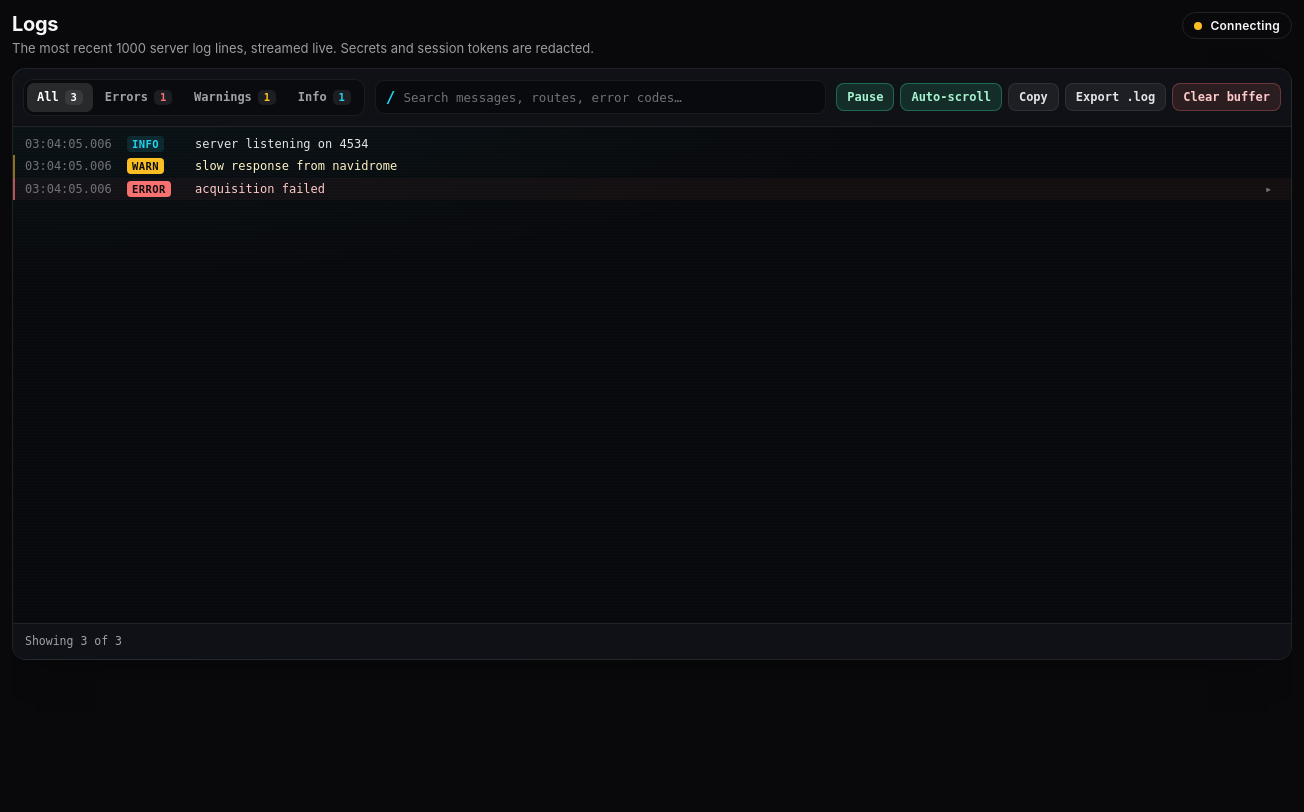
clear asks for confirmation and empties the console
expect the text "server listening on 4534" is shown: met, box [195,136,368,150]
Click the button "Clear buffer": (1227, 97) [1172,83,1281,111]
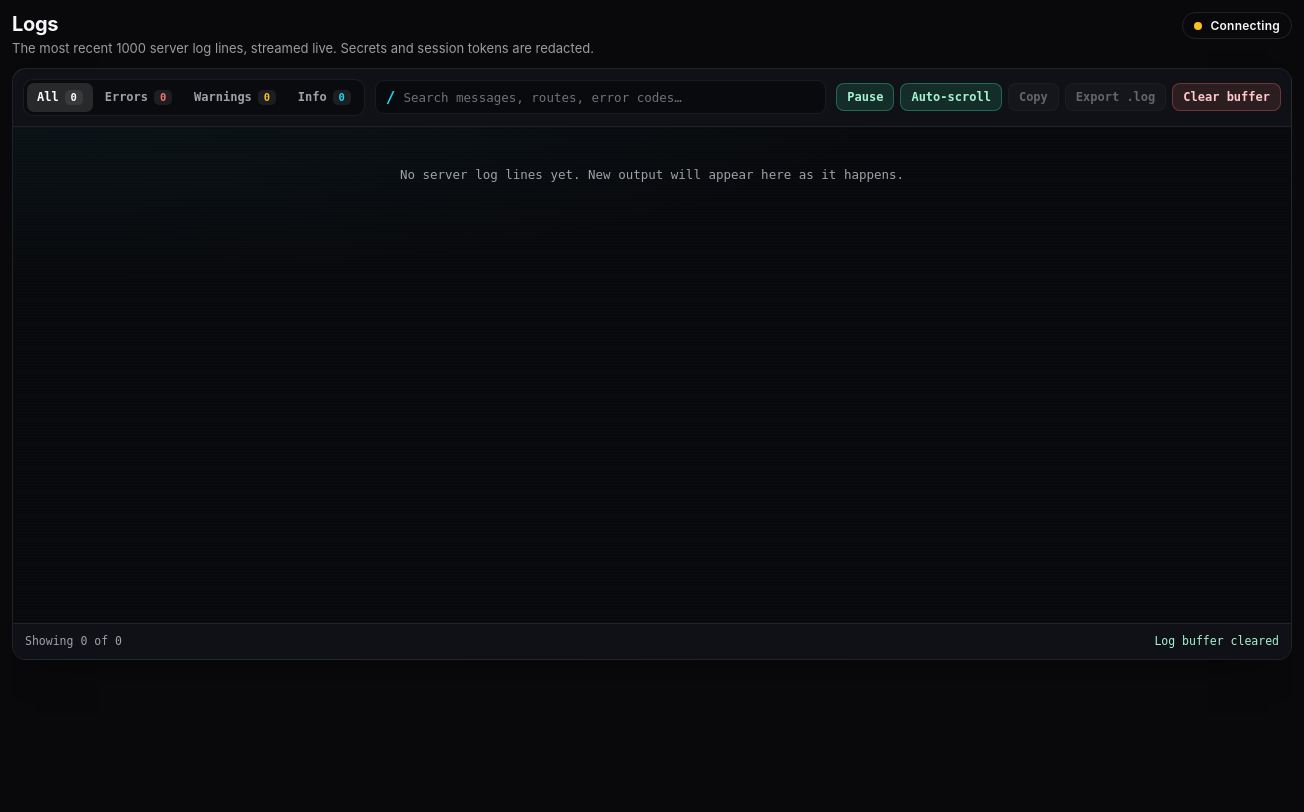
expect no list items are shown: met
expect the text "No server log lines yet" is shown: met, box [400,166,904,182]
